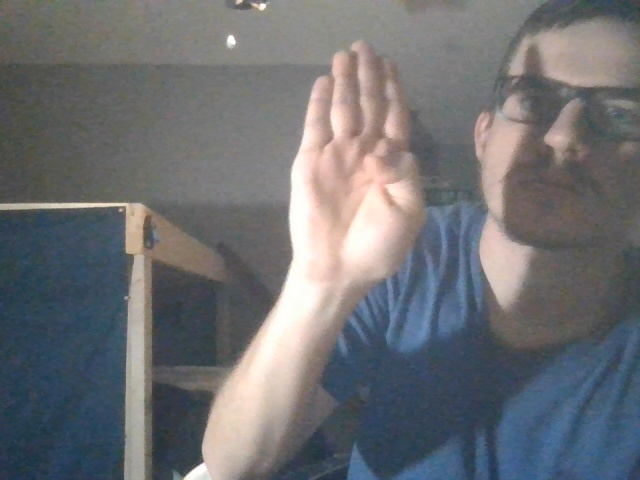B: (281, 35, 438, 295)
